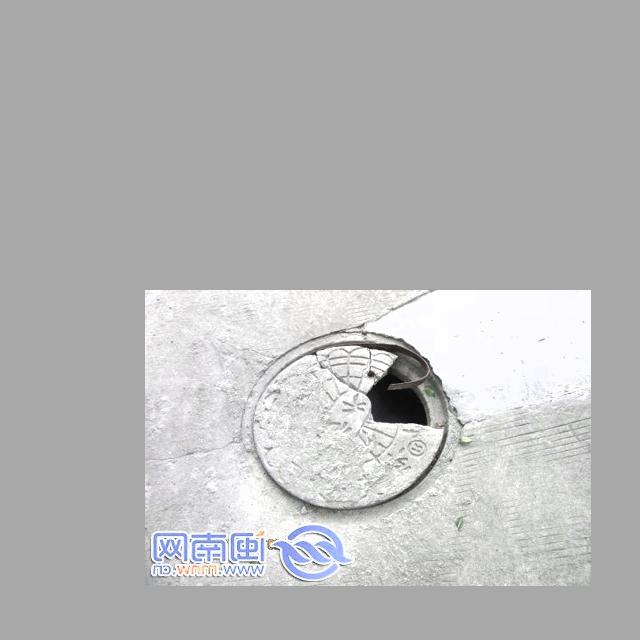broke: (239, 323, 474, 520)
